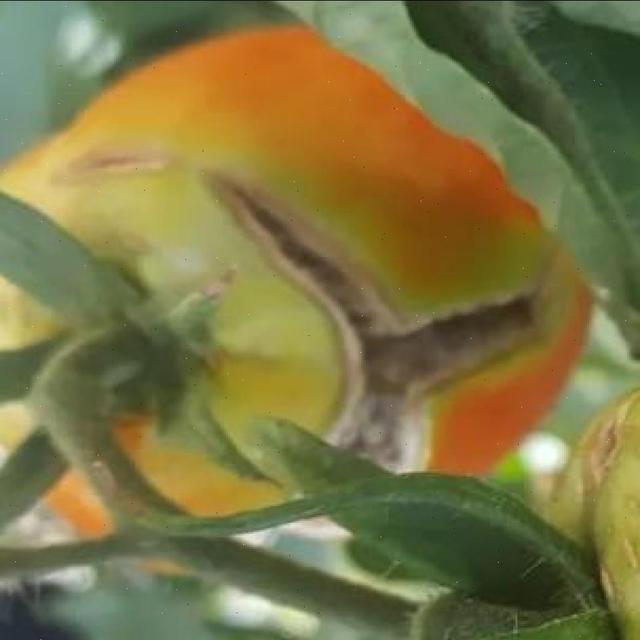Cracking Fruit: (78, 51, 261, 261)
